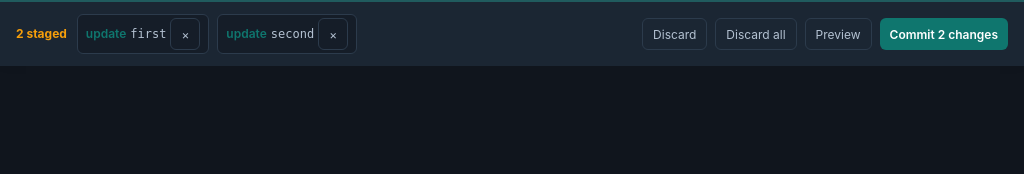
Test: CommitBar — staged atomic commits (S02) › a failed commit pins the first offending staged edit (error focus)
The width and height of the screenshot is (1024, 174).
Click the button titled "Commit all staged edits as one atomic batch" at (944, 34), box 880,18 -> 1008,50
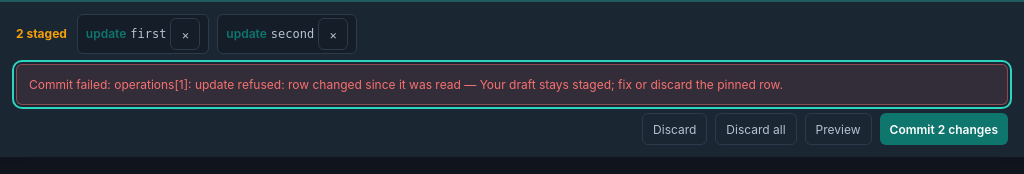
Result: the message shows "operations[1]" at 114,77 -> 461,92
